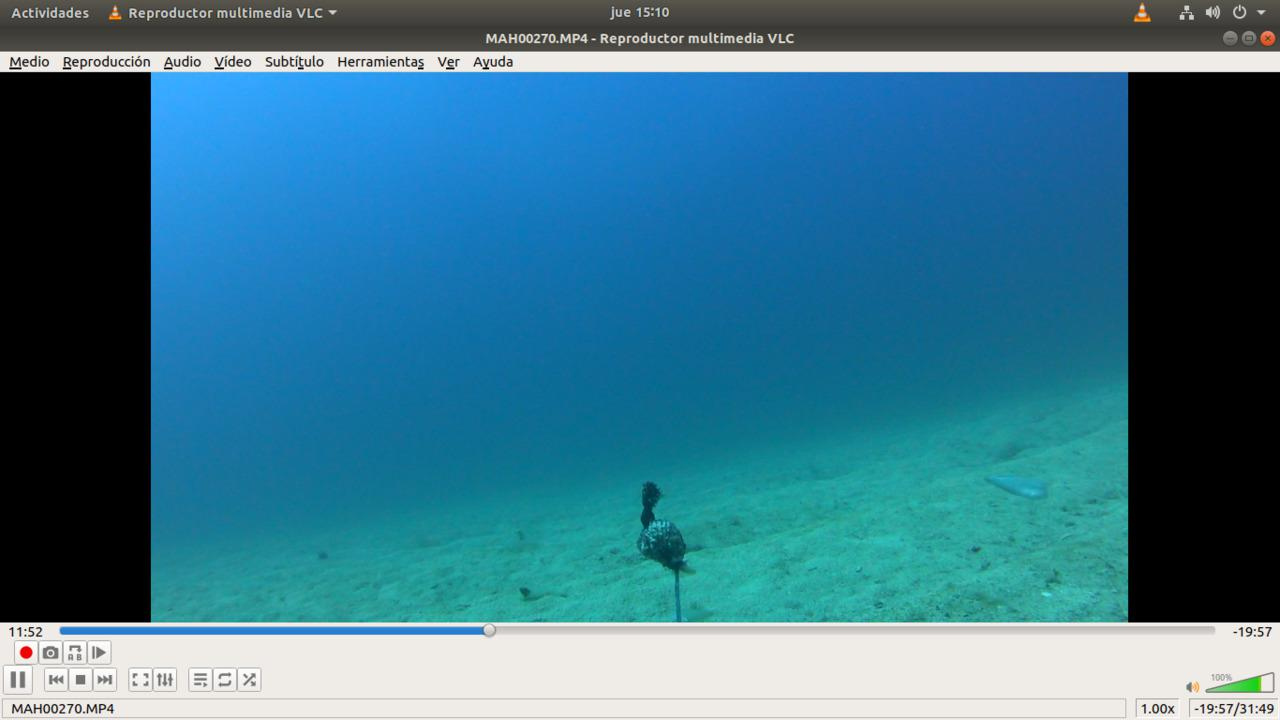raor: (978, 459, 1066, 511)
